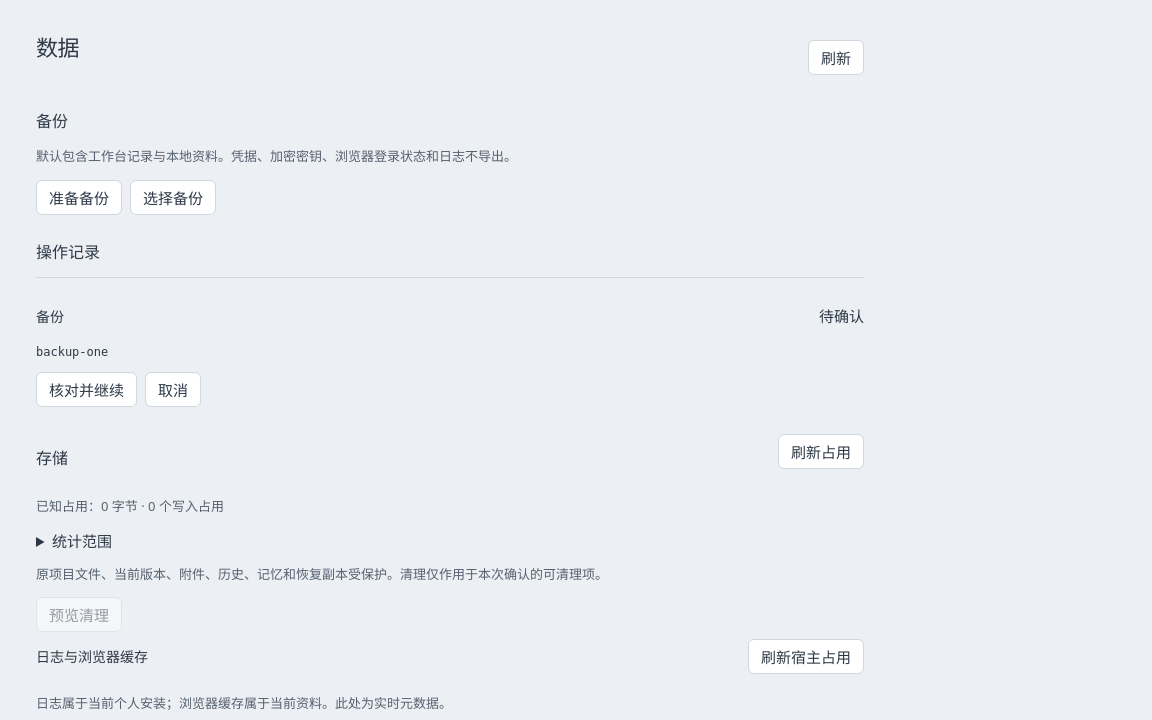
静止失败显示未完成，不能导出，不自动重试
This screenshot has width=1152, height=720.
Click the button "核对并继续".
click(86, 389)  # box x1=36 y1=372 x2=137 y2=407
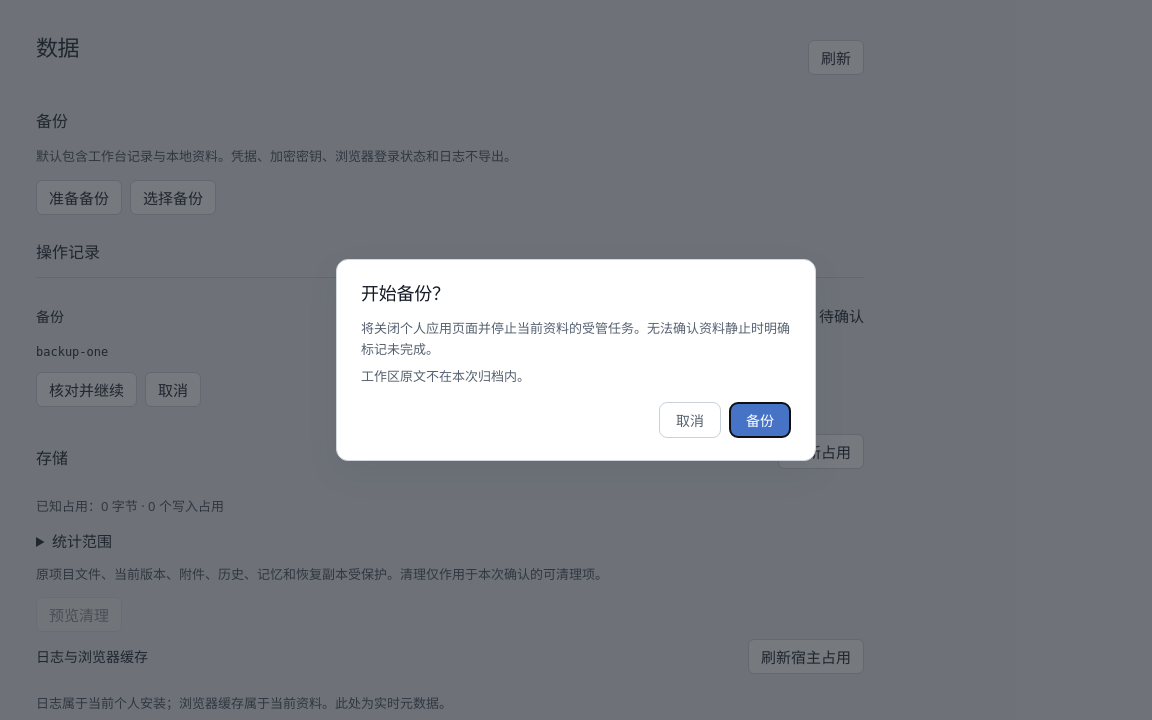
Click the button "备份".
click(760, 420)  # box x1=729 y1=402 x2=791 y2=438
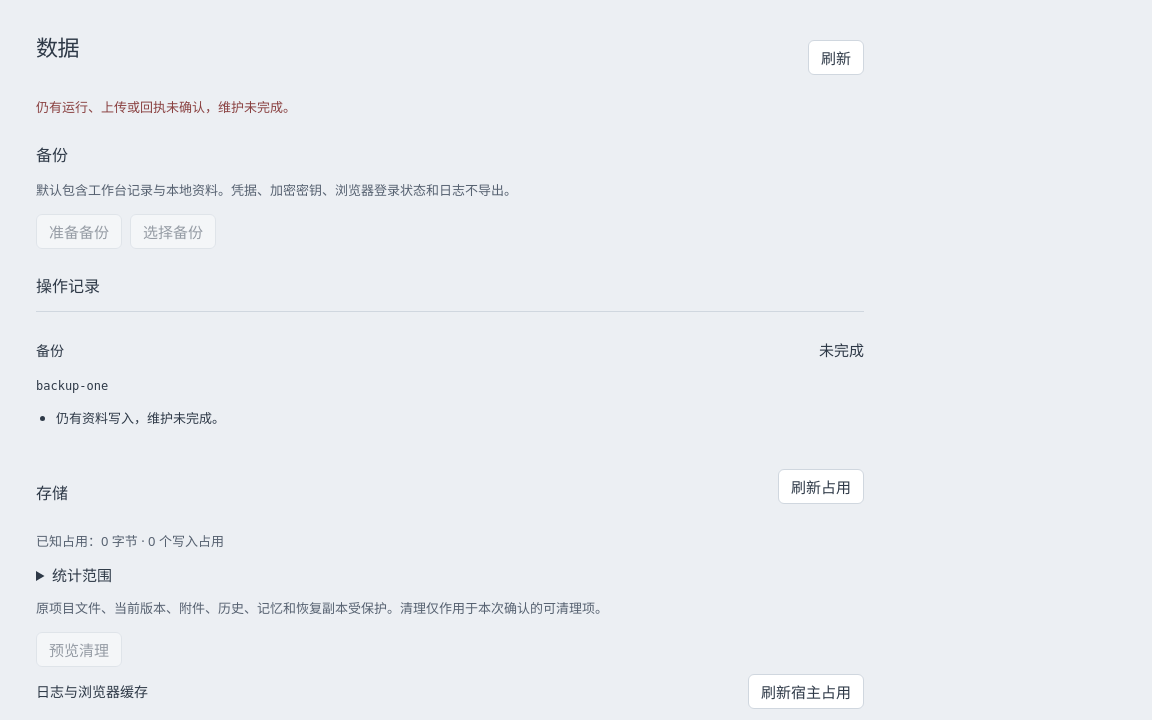
Expected: the text "未完成" is shown, x1=819 y1=339 x2=864 y2=360
